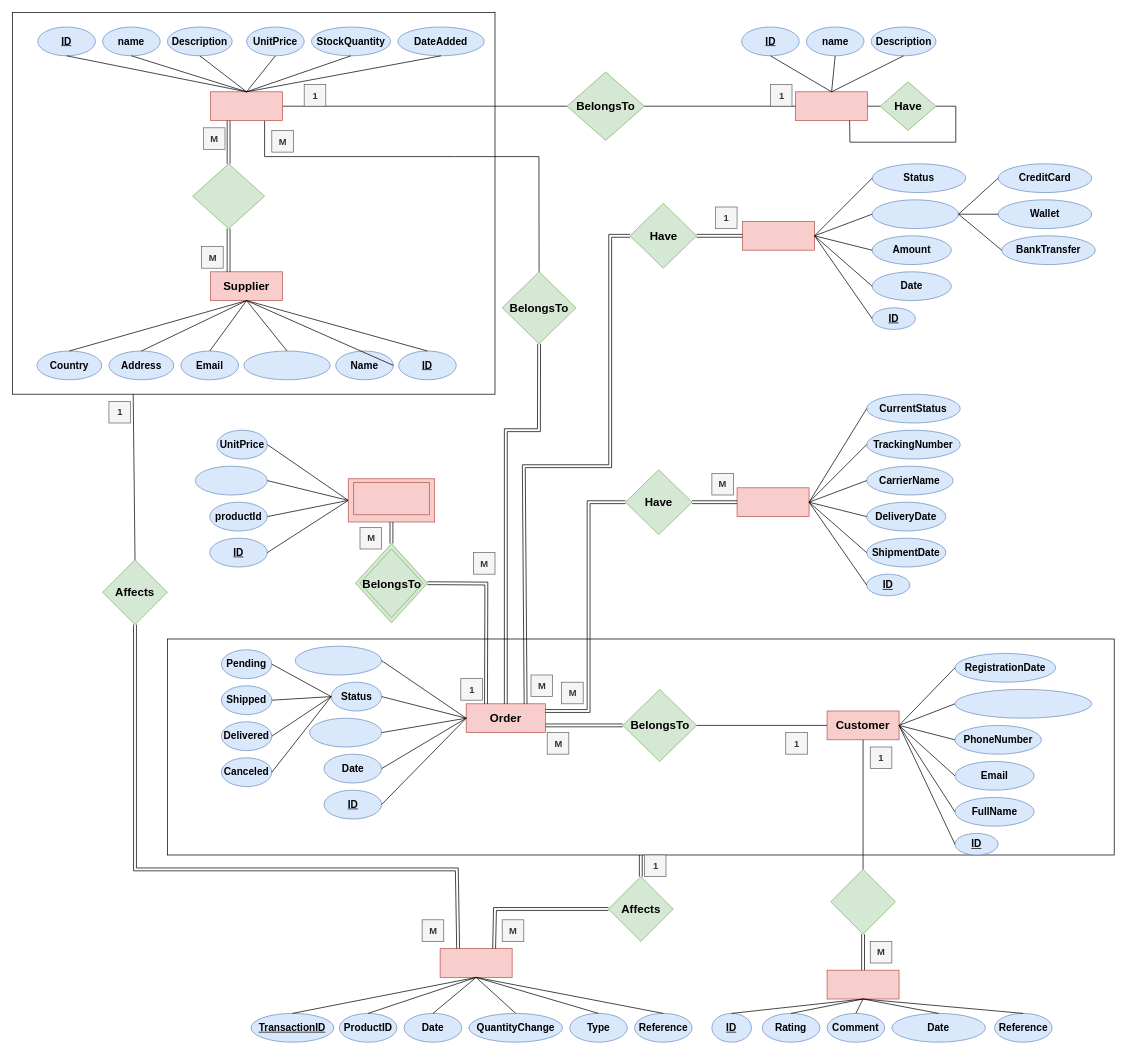
Image size: 1127x1055. Some labels were removed from this diagram. The centre of each missing label's shape, as x and y in pixels:
"Category" goes at [831,106].
"ContactNumber" goes at [286,365].
"Method" goes at [915,214].
"OfferedBy" goes at [228,196].
"OrderItem" goes at [391,498].
"Payment" goes at [778,235].
"PaymentMethod" goes at [338,660].
"Product" goes at [246,106].
"Quantity" goes at [231,480].
"Review" goes at [862,984].
"Shipment" goes at [772,502].
"ShippingAddress" goes at [1023,703].
"TotalAmount" goes at [345,732].
"Transaction" goes at [475,962].
"Writes" goes at [862,901].
